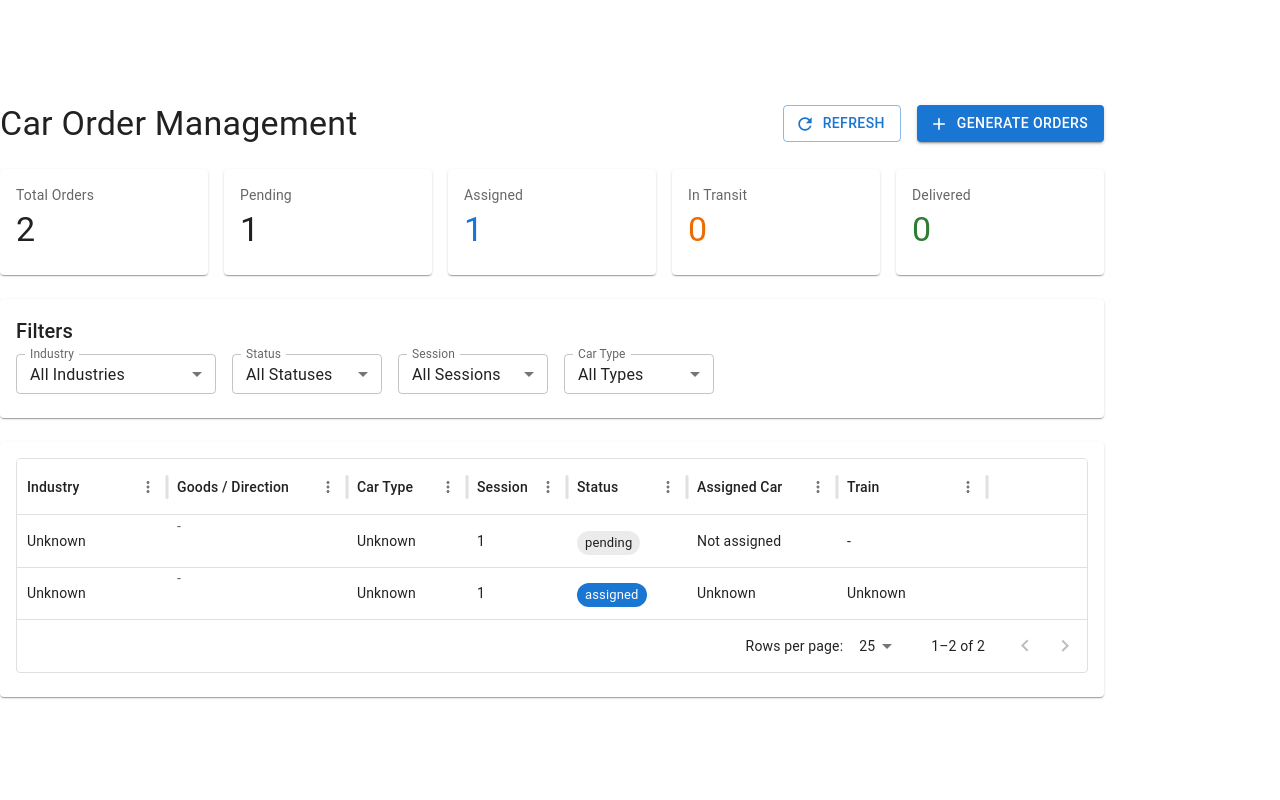
Test case: CarOrderManagement Page › Generate Orders › should open generate orders dialog
This screenshot has width=1280, height=800.
Expected: the heading "Car Order Management" is shown, [0,103,358,145]
Click the button "Generate Orders": (1010, 124) [917,105,1104,142]
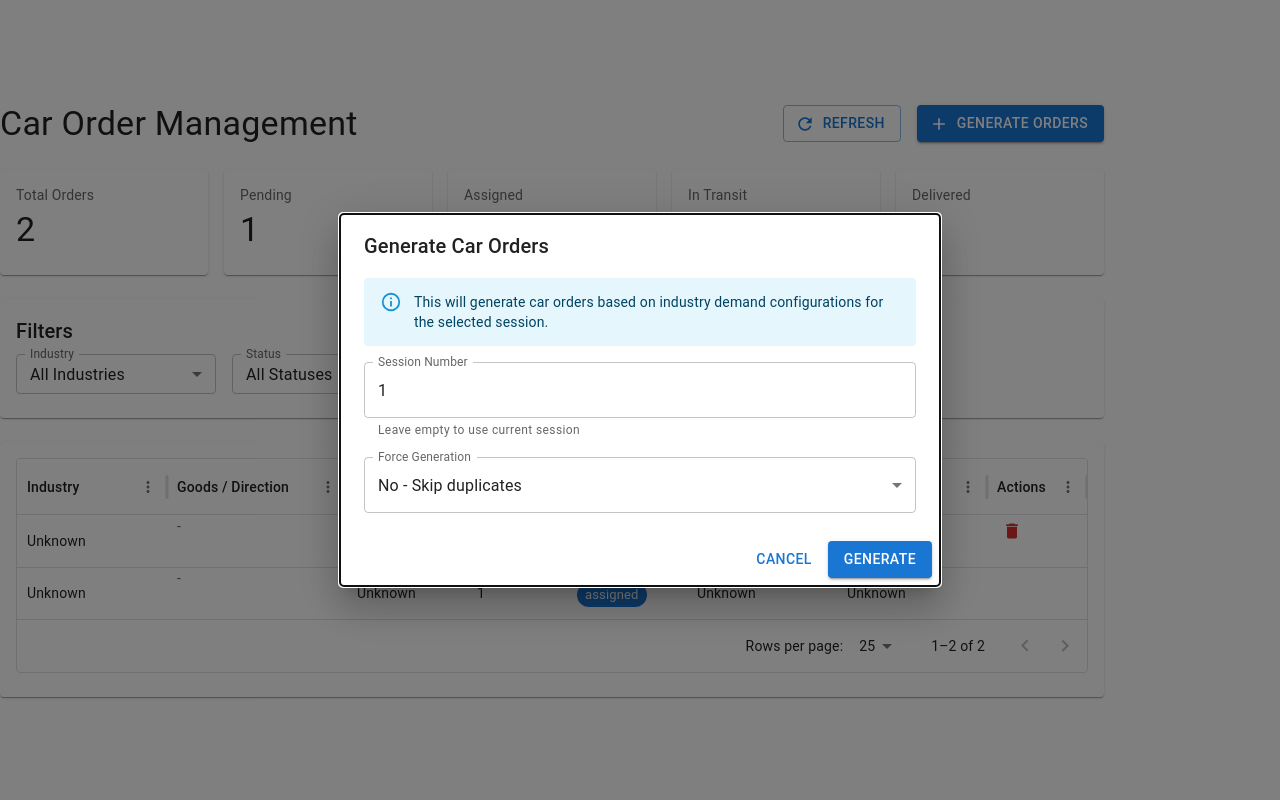
Result: the heading "Generate Car Orders" is shown at [364,234,549,258]
